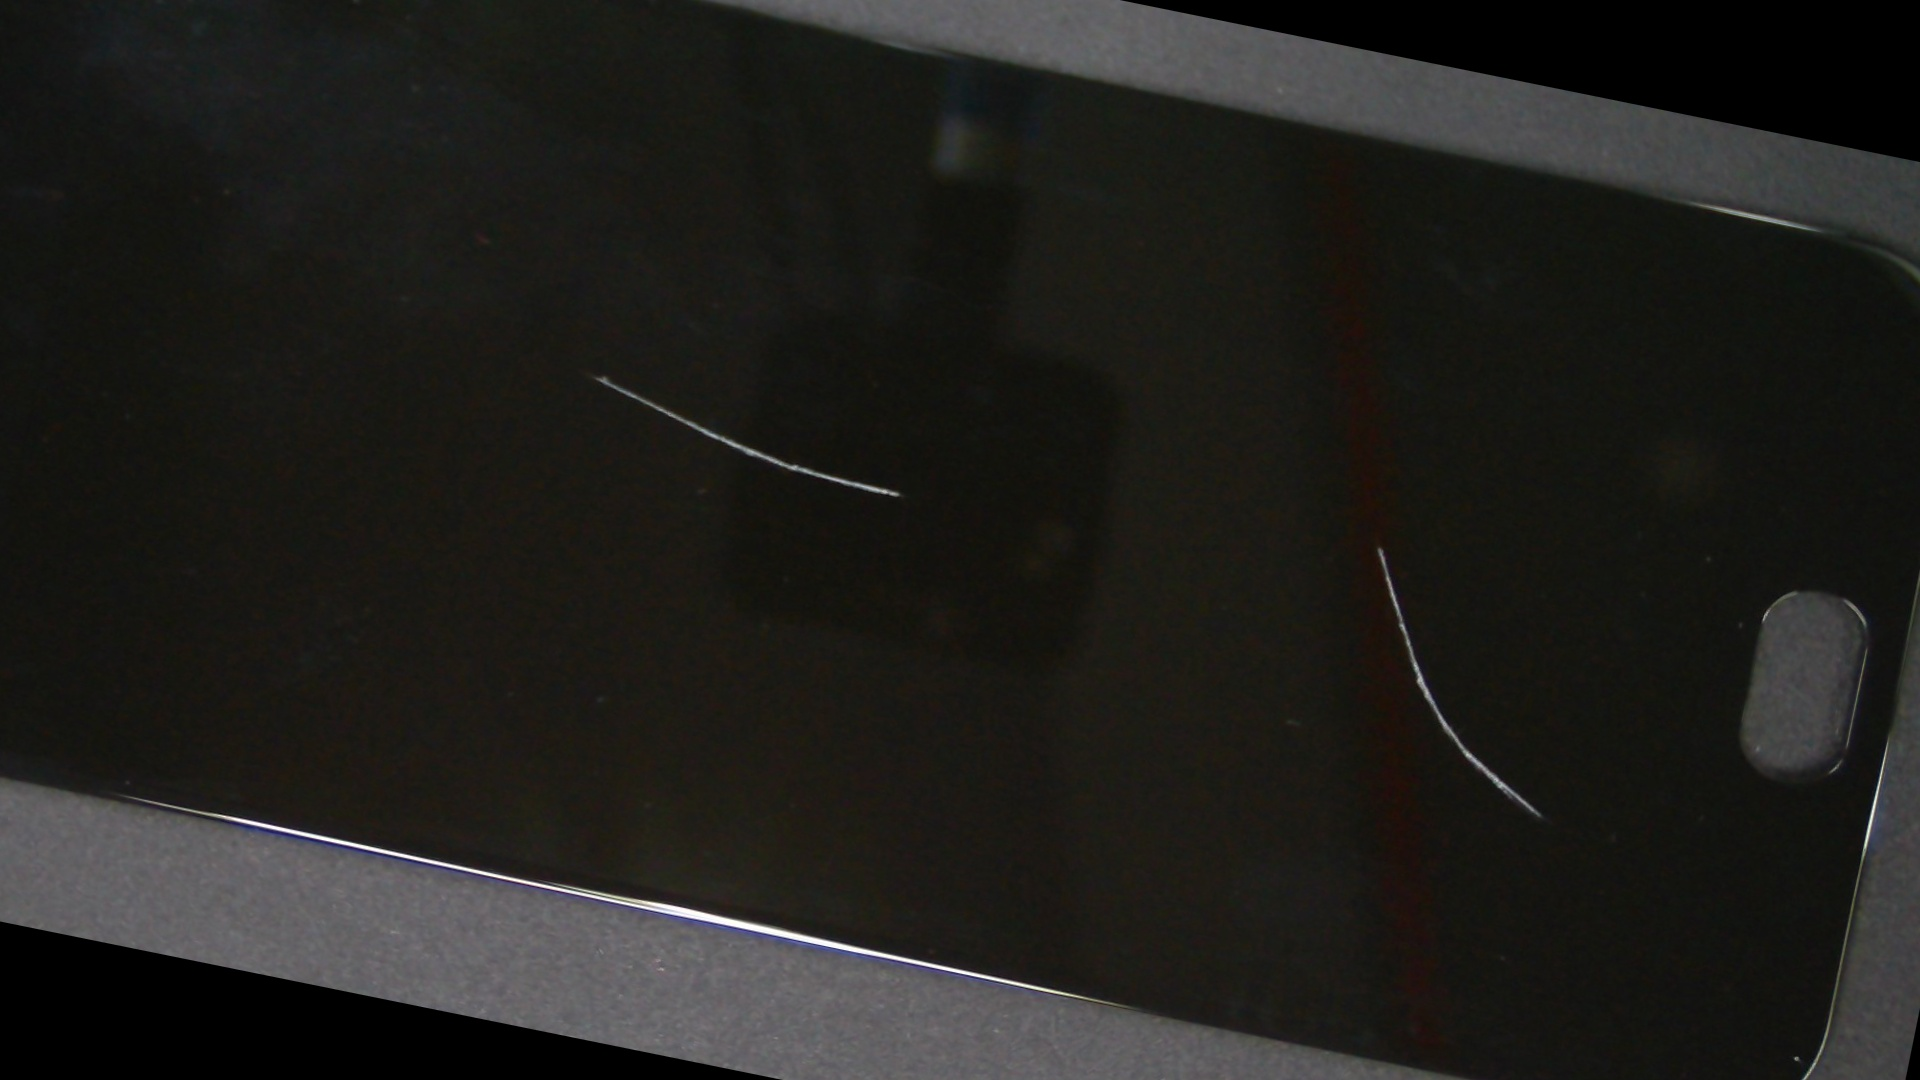oil: (556, 152, 1920, 905), (171, 66, 1039, 684)
